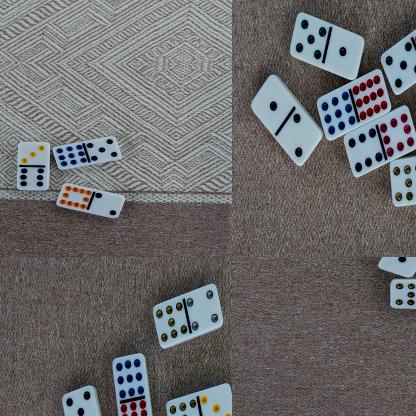pip-1: (250, 75, 288, 127), (326, 27, 364, 79), (377, 257, 416, 276)
pip-10: (55, 182, 92, 209)
pip-12: (351, 68, 390, 121), (119, 397, 153, 416)
pip-2: (282, 111, 323, 165), (91, 191, 125, 219)
pip-3: (197, 382, 232, 416), (16, 141, 50, 166)
pip-4: (185, 282, 223, 332)
pip-5: (289, 11, 327, 62), (381, 40, 416, 93), (61, 385, 95, 416), (84, 136, 121, 162)
pip-6: (343, 127, 382, 178), (16, 164, 48, 190)
pip-7: (152, 300, 187, 348), (389, 158, 416, 206), (389, 277, 416, 308), (165, 397, 200, 416)
pip-8: (379, 104, 416, 156)
pip-9: (316, 90, 354, 140), (112, 353, 145, 400), (52, 143, 87, 169)
